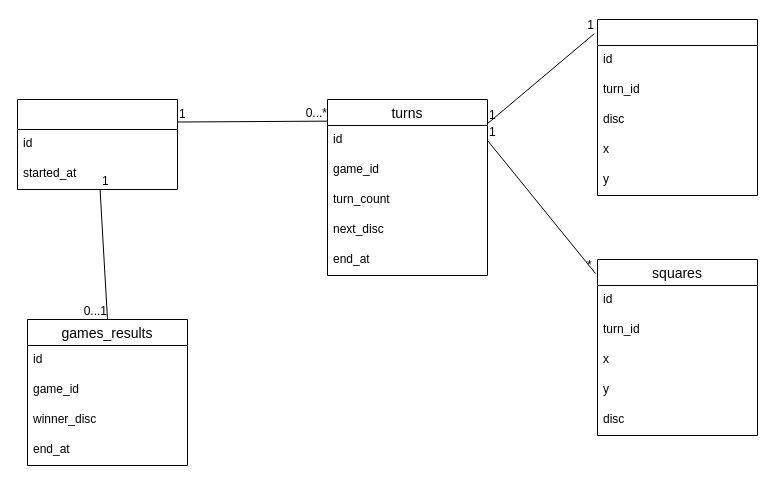
Some shapes in this 775 by 486 pixel diagram are drawn without their labels. Each missing label, with the box of its shape:
games: (16, 98, 178, 190)
moves: (596, 18, 758, 196)
